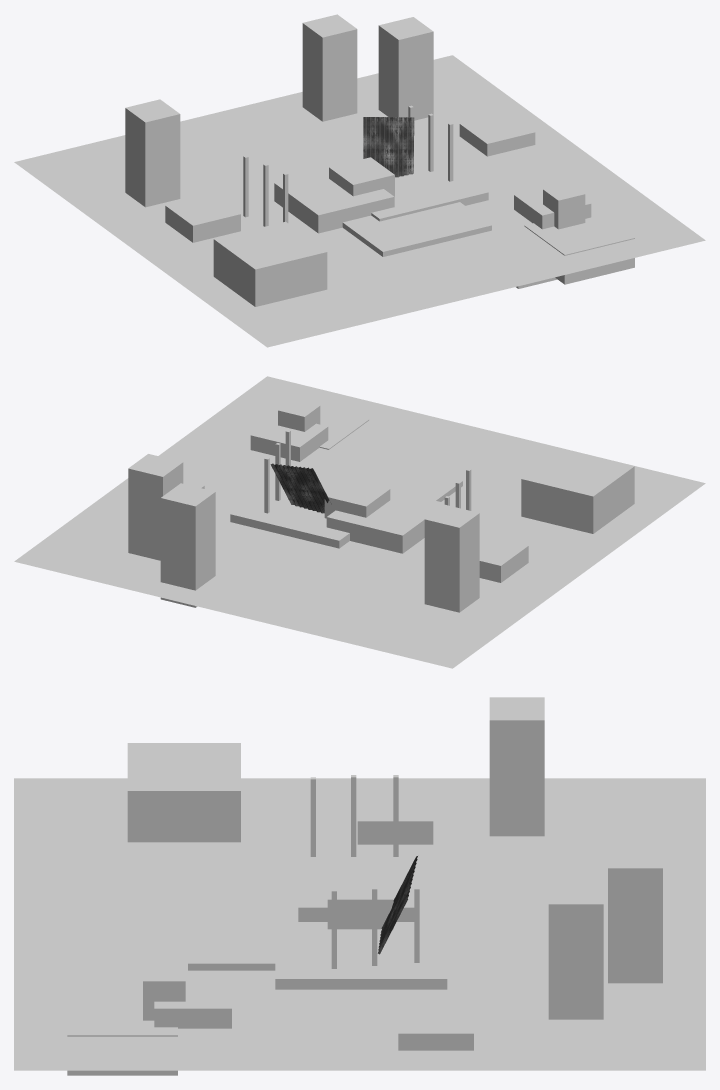
File: environment.glb
3 views of the same model, one above another, from view 1: azimuth 30°, elevation 25°; view 2: azimuth 150°, elevation 25°; view 3: azimuth 270°, elevation 25° (orthographic). The views are drawn at different scales.
Parts seen in each view (by area): view 1: Plane, Cube.009, Cube.008, Cube.007, Cube.006, Cube.003, Cube.001, Cube.002, Cube.016, Plane.009, Cube.010, Cube.013 (+3 smaller); view 2: Plane, Cube.009, Cube.007, Cube.008, Cube.001, Cube.006, Cube.002, Cube.003, Cube.015, Cube.010, Cube, Plane.009 (+2 smaller); view 3: Plane, Cube.002, Cube.009, Cube.008, Cube.006, Cube.007, Cube.003, Cube.016, Cube.010, Cube.001, Cube.013, Cube.015 (+3 smaller).
Boxes of the visible parts, x1,y1,x2,y2 form: Plane: (14,55,705,347); Cube.009: (213,221,327,306); Cube.008: (125,99,180,207); Cube.007: (302,14,357,121); Cube.006: (378,17,433,120); Cube.003: (342,202,491,256); Cube.001: (274,170,394,233); Cube.002: (371,146,488,221); Cube.016: (524,208,634,284); Plane.009: (363,117,414,177); Cube.010: (165,194,240,242); Cube.013: (459,112,535,156); Plane: (14,376,705,668); Cube.009: (521,448,634,533); Cube.007: (160,483,215,607); Cube.008: (424,504,479,612); Cube.001: (326,489,444,553); Cube.006: (128,454,183,560); Cube.002: (230,474,349,548); Cube.003: (325,454,462,501); Cube.015: (250,415,328,461); Cube.010: (479,534,528,582); Cube: (324,479,390,518); Plane.009: (270,463,331,513); Plane: (14,778,705,1070); Cube.002: (275,906,447,989); Cube.009: (127,743,240,842); Cube.008: (489,697,544,836); Cube.006: (548,881,603,1019); Cube.007: (608,845,662,983); Cube.003: (188,891,298,970); Cube.016: (67,988,177,1075); Cube.010: (357,789,433,844); Cube.001: (298,857,418,921); Cube.013: (398,1001,473,1050); Cube.015: (154,975,231,1028).
Size of the model in its own units: 10 by 2.76 by 10.
Materials: 1 (1 with a texture image).
